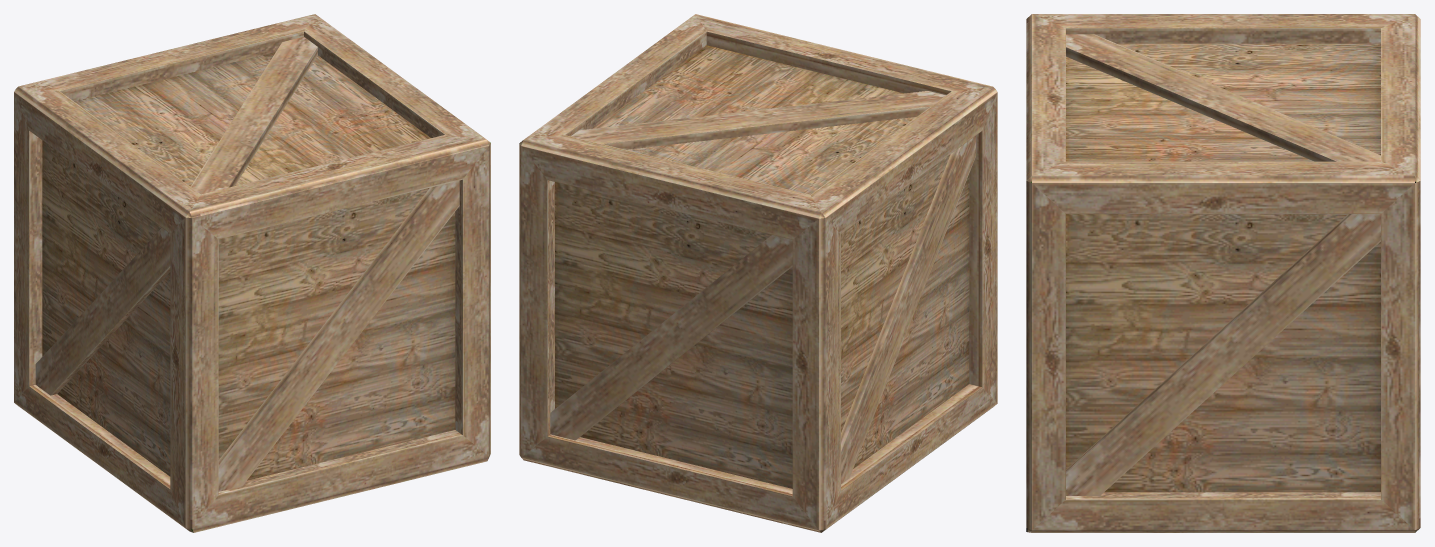
The model's file is pallettebox030_woodbox_dm_0_lev1.glb.
3 views of the same model, side by side, from view 1: azimuth 30°, elevation 25°; view 2: azimuth 150°, elevation 25°; view 3: azimuth 270°, elevation 25° (orthographic). The views are drawn at different scales.
Parts seen in each view (by area): view 1: pallettebox030_woodbox_dm_0_lev1; view 2: pallettebox030_woodbox_dm_0_lev1; view 3: pallettebox030_woodbox_dm_0_lev1.
Boxes of the visible parts, left/top/right/bottom form: pallettebox030_woodbox_dm_0_lev1: left=14, top=14, right=490, bottom=532; pallettebox030_woodbox_dm_0_lev1: left=519, top=14, right=997, bottom=532; pallettebox030_woodbox_dm_0_lev1: left=1026, top=14, right=1420, bottom=532.
Bounding box in the file's own units: 0.803 × 0.803 × 0.803.
Materials: 1 (1 with a texture image).
